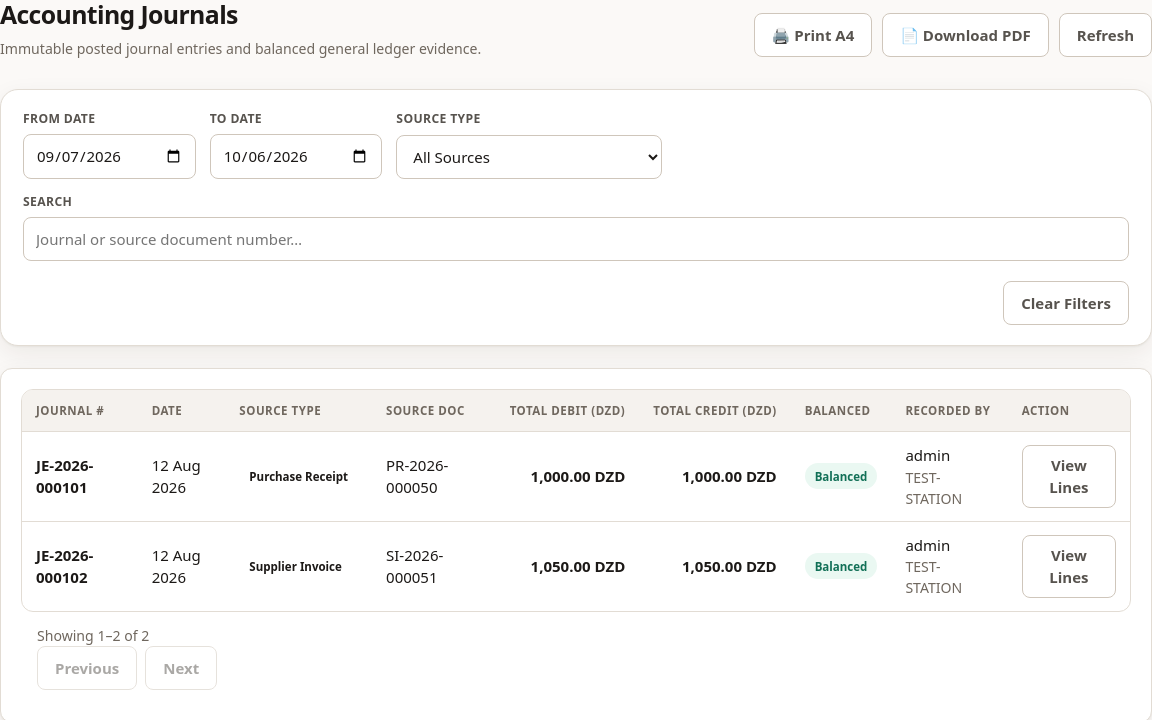
Test: JournalsScreen Workflow › opens journal lines modal on View Lines click
Click the button with test id "view-journal-101" at (1069, 476), box [1022,445,1116,508]
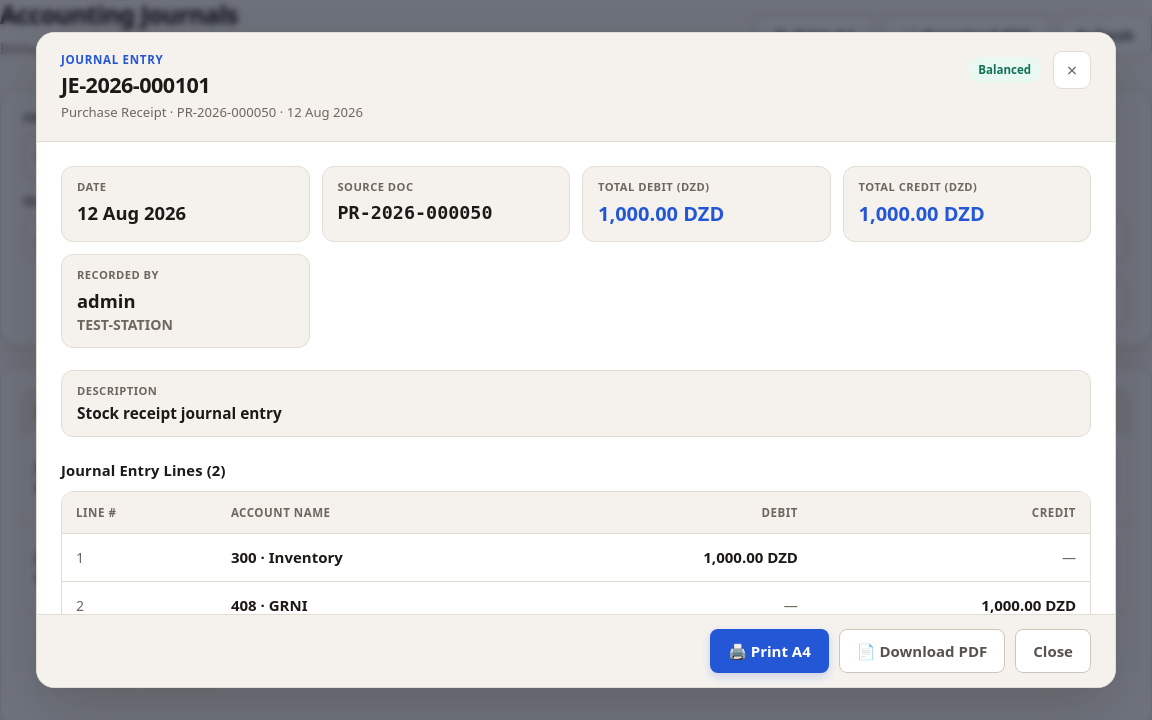
Expected: the element with test id "journal-detail-modal" is shown
Expected: the table with test id "journal-lines-table" is shown, [62,492,1090,614]
Expected: the text "300 · Inventory" is shown, [231,547,343,567]
